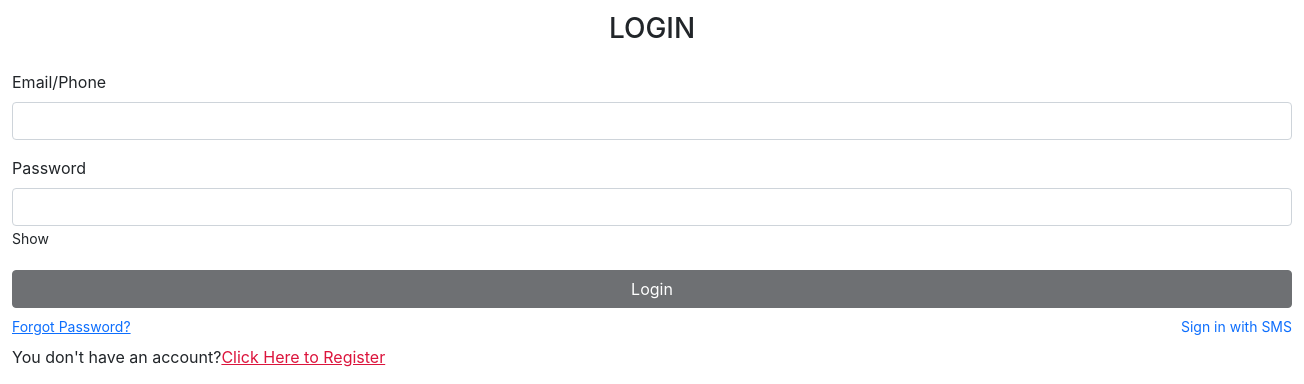
Test: Login Page › toggles between the login forms
What coordinates should you click on to do the following:
click the text with test id "smsToggle"
I would click on:
 (1236, 326)
Its box is [1181,318,1292,335].
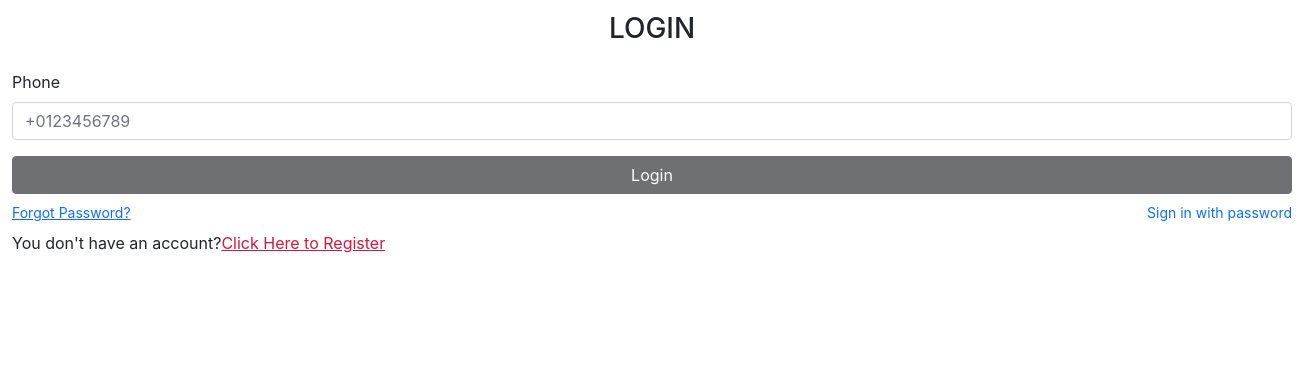
Expected: the form with test id "smsLoginForm" is shown, [12,70,1292,194]
Expected: the form with test id "regLoginForm" is gone
What coordinates should you click on to do the following:
click the text with test id "smsToggle"
I would click on:
 (1220, 212)
Its box is [1147,204,1292,221].
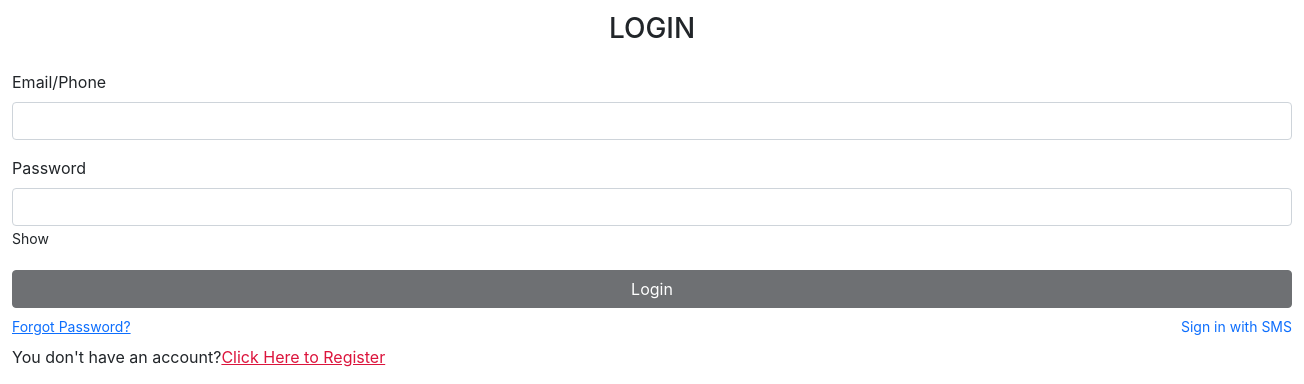
Expected: the form with test id "regLoginForm" is shown
Expected: the form with test id "smsLoginForm" is gone
